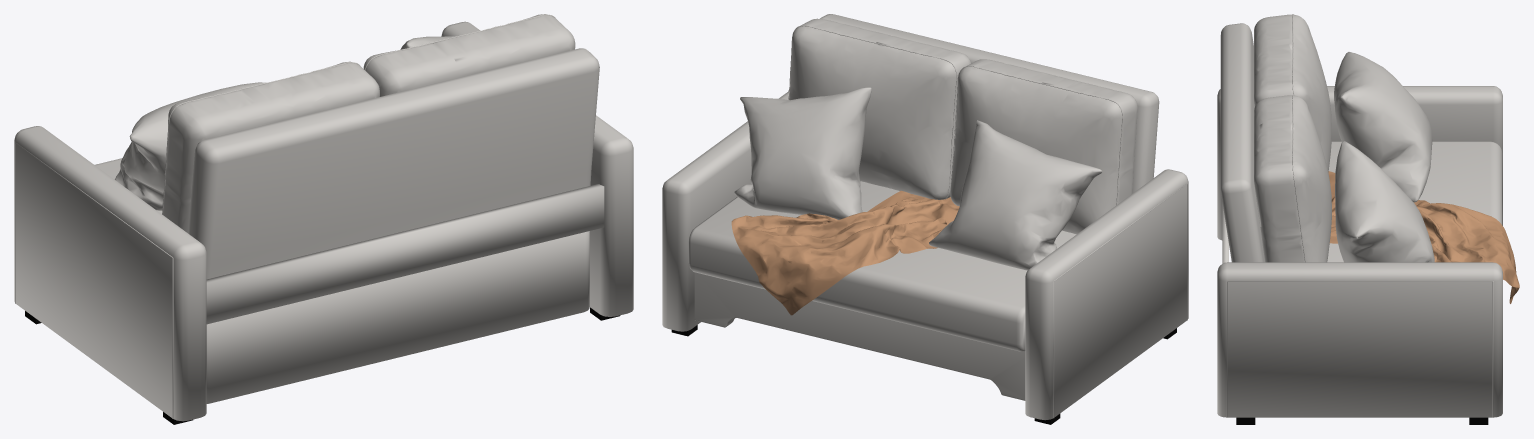
File: sofa_LP.fbx
3 renders of one model, left to right at view 1: azimuth 30°, elevation 25°; view 2: azimuth 150°, elevation 25°; view 3: azimuth 270°, elevation 25°, orthographic. The views are drawn at different scales.
Parts seen in each view (by area): view 1: sofa, pillow; view 2: sofa, pillow, pled; view 3: sofa, pillow, pled, metal.
Part boxes in pixels (x1,y1,x2,y2): sofa: (14, 14, 633, 421); pillow: (115, 35, 458, 210); sofa: (662, 14, 1188, 420); pillow: (734, 87, 1102, 270); pled: (731, 190, 959, 315); sofa: (1217, 14, 1502, 417); pillow: (1334, 52, 1434, 262); pled: (1328, 171, 1519, 303); metal: (1236, 417, 1488, 424).
Size of the model in its own units: 143 by 85.6 by 96.33.
